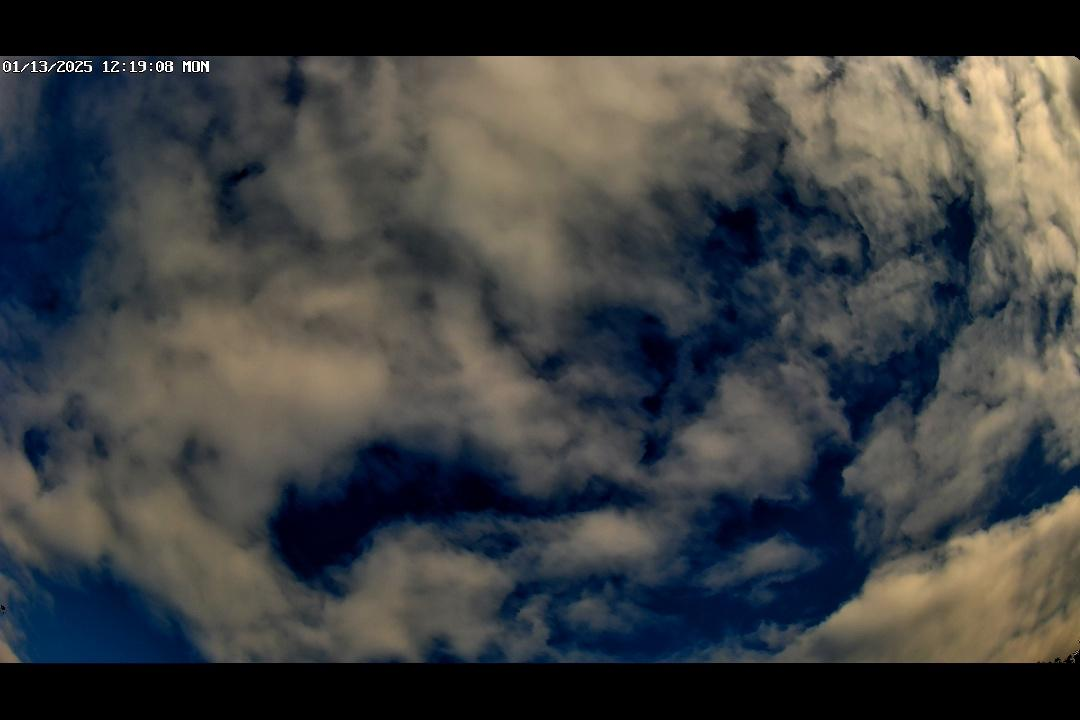WildLife: (0, 602, 14, 618)
